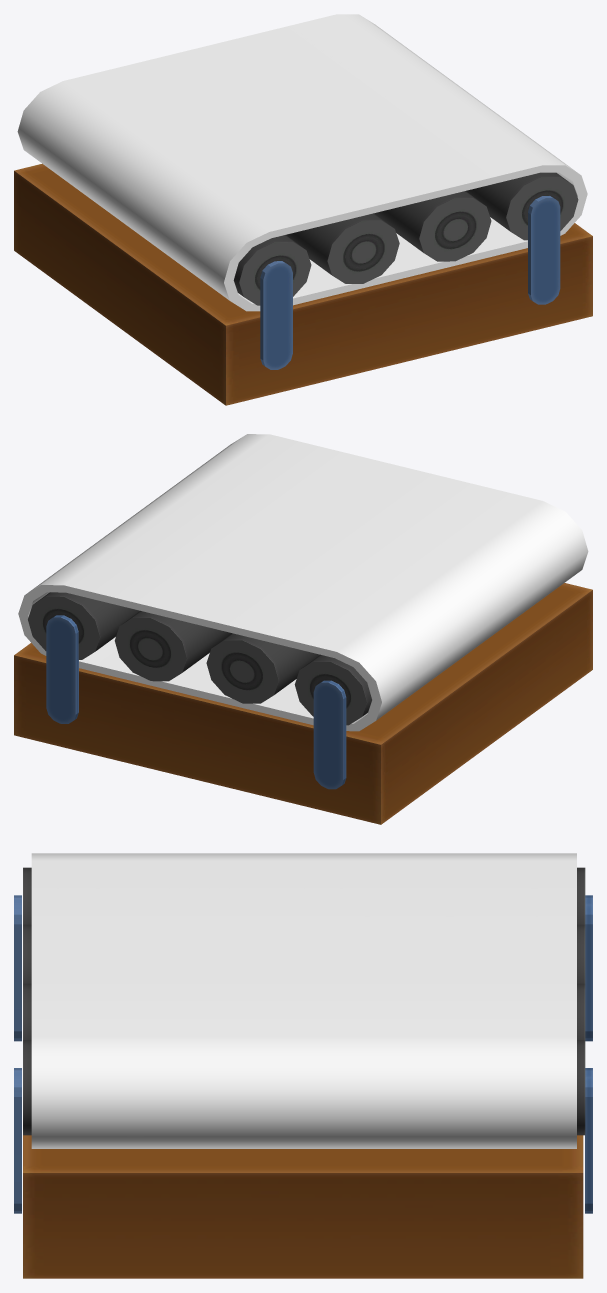
File: ConveyorBelt.fbx
3 renders of one model, top to bottom at view 1: azimuth 30°, elevation 25°; view 2: azimuth 150°, elevation 25°; view 3: azimuth 270°, elevation 25°, orthographic. The views are drawn at different scales.
Visible parts, largest first — view 1: ConveyorBelt; view 2: ConveyorBelt; view 3: ConveyorBelt.
Boxes of the visible parts, x1,y1,x2,y2 form: ConveyorBelt: (14, 14, 592, 405); ConveyorBelt: (14, 434, 592, 824); ConveyorBelt: (14, 853, 592, 1278).
Size of the model in its own units: 1.2 by 0.4995 by 1.24.
Materials: 2 (1 with a texture image).
